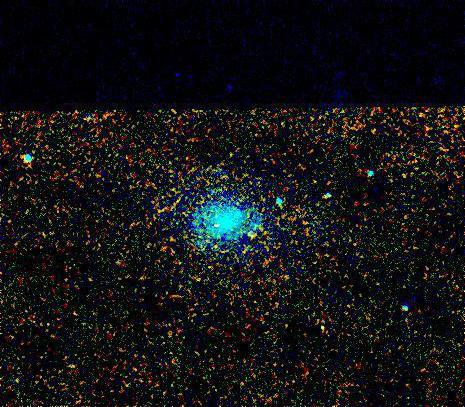star: (240, 220, 270, 250)
